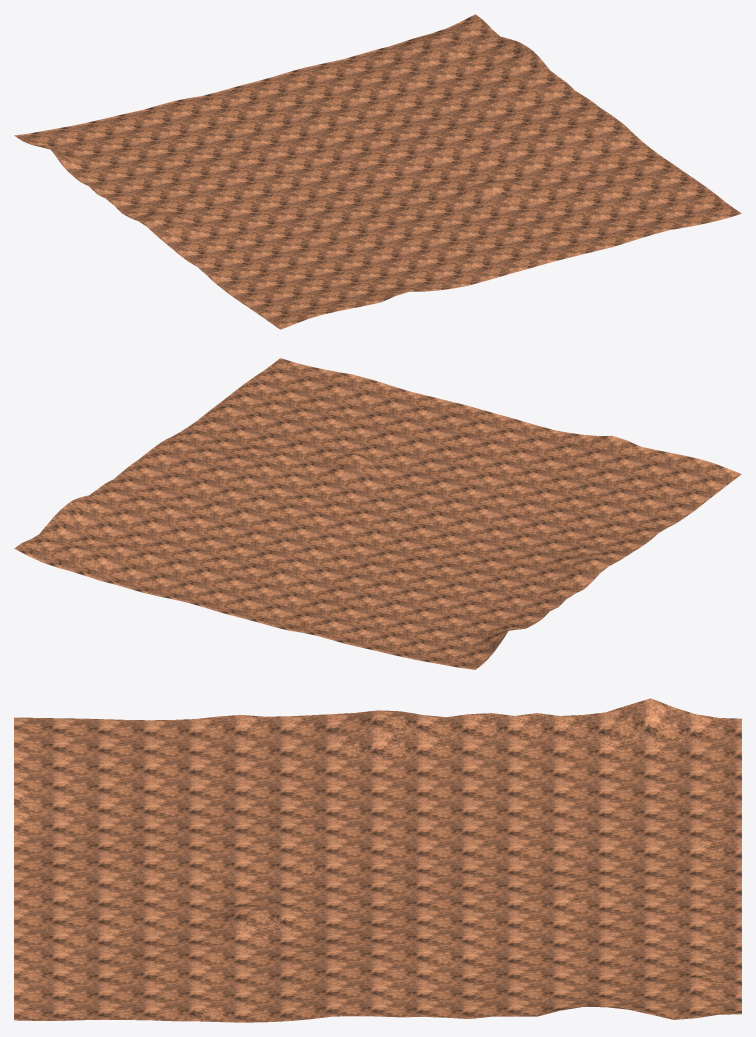
Rendered from terrain_07_01.dae.
3 views of the same model, one above another, from view 1: azimuth 30°, elevation 25°; view 2: azimuth 150°, elevation 25°; view 3: azimuth 270°, elevation 25° (orthographic). The views are drawn at different scales.
Visible parts, largest first — view 1: terrain_07_01-node; view 2: terrain_07_01-node; view 3: terrain_07_01-node.
Boxes of the visible parts, x1,y1,x2,y2 form: terrain_07_01-node: (14,14,741,329); terrain_07_01-node: (14,358,741,669); terrain_07_01-node: (14,698,741,1022).
Size of the model in its own units: 128 by 128 by 5.62.
Materials: 1 (1 with a texture image).
